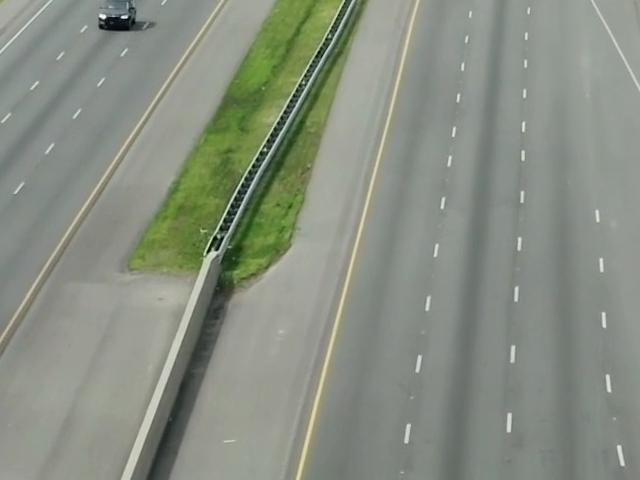car: (90, 0, 140, 38)
